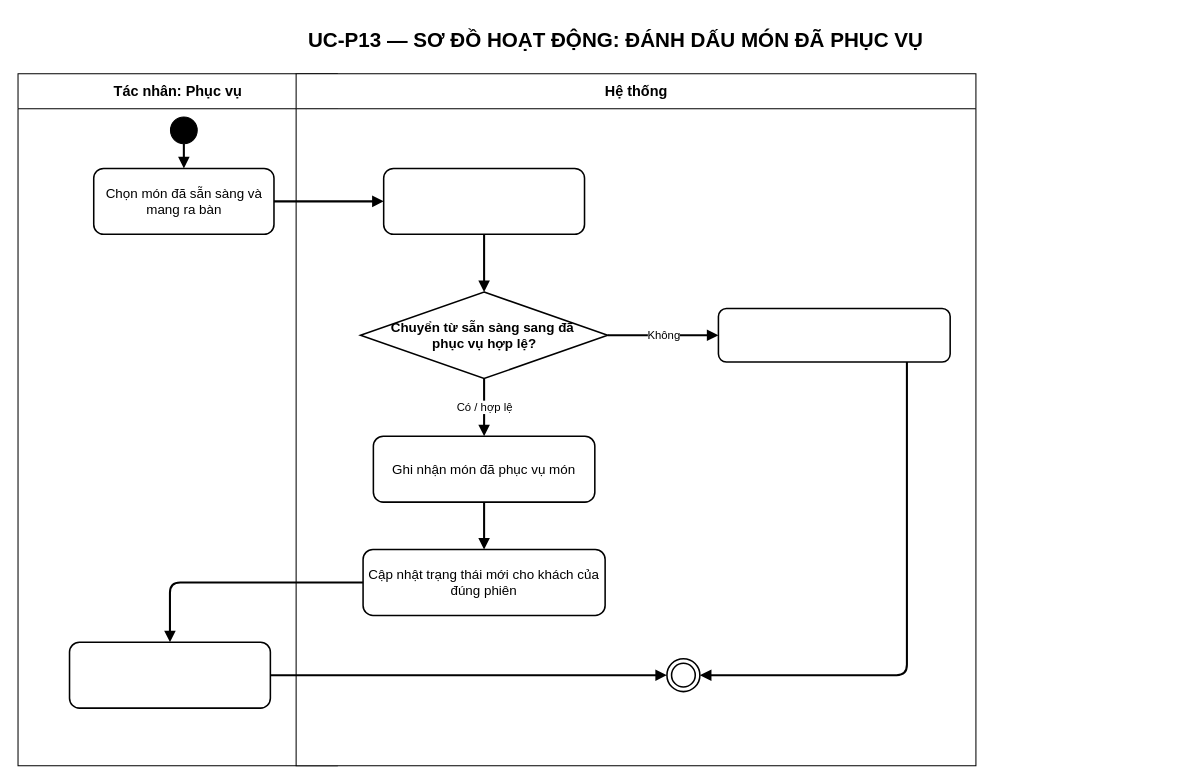
The diagram is 1200 pixels wide and 784 high, and some of its shapes have lost their labels. Each missing label, with the centre of its shape:
"Gửi cập nhật món đã phục vụ" belongs at (x=483, y=201).
"Món rời khỏi danh sách chờ phục vụ" belongs at (x=169, y=674).
"Từ chối bước chuyển sai hoặc món đã bị hủy" belongs at (x=833, y=334).
